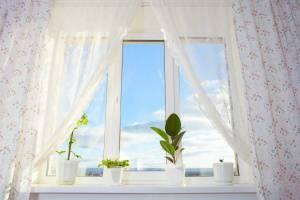window: (44, 34, 253, 180)
